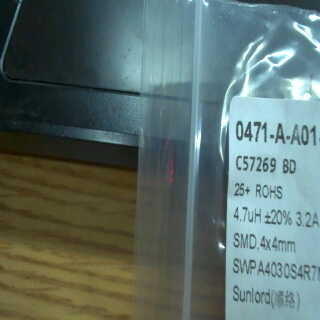4.7uH: (231, 203, 266, 223)
